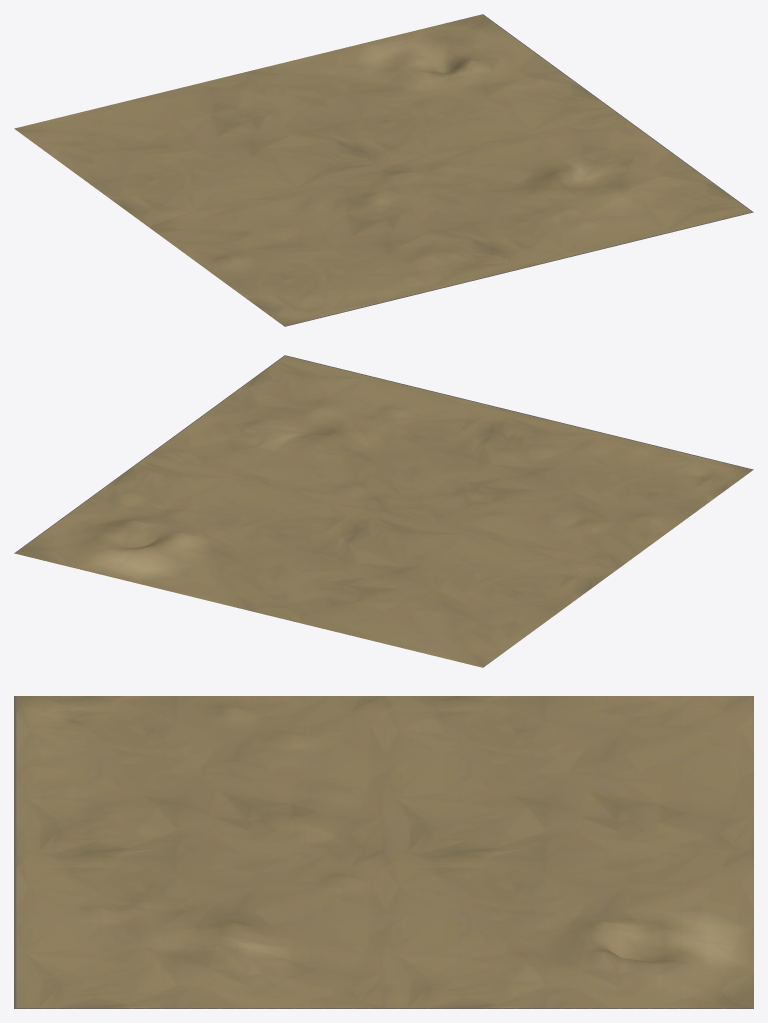
File: Desert_Floor.fbx
The picture shows the model from 3 angles, top to bottom: view 1: azimuth 30°, elevation 25°; view 2: azimuth 150°, elevation 25°; view 3: azimuth 270°, elevation 25°; orthographic projection. The views are drawn at different scales.
Parts seen in each view (by area): view 1: Plane002; view 2: Plane002; view 3: Plane002.
Boxes of the visible parts, box(x1,y1,x2,y2) form: Plane002: box(14, 14, 753, 326); Plane002: box(14, 355, 753, 667); Plane002: box(14, 696, 753, 1008).
Bounding box in the file's own units: 100 × 3.23 × 100.
1 material, 1 textured.
